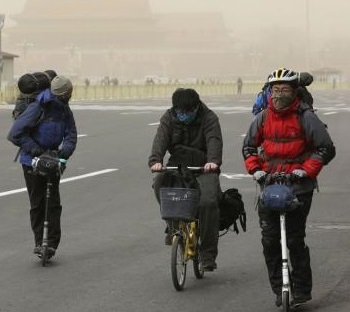person: (242, 66, 337, 309), (147, 87, 248, 295), (6, 68, 81, 268)
